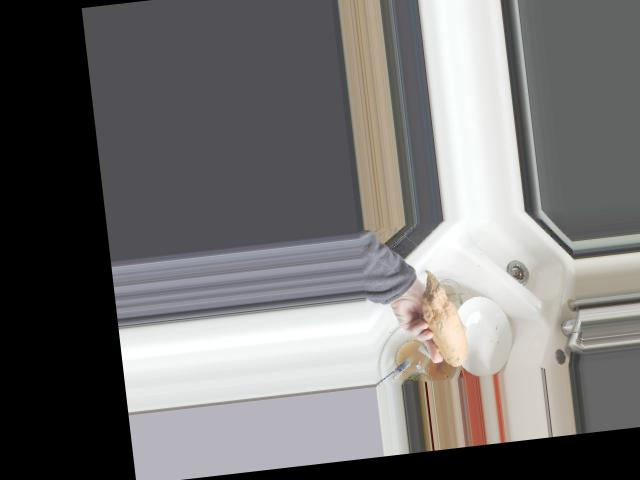sweet_potato: (417, 265, 472, 369)
